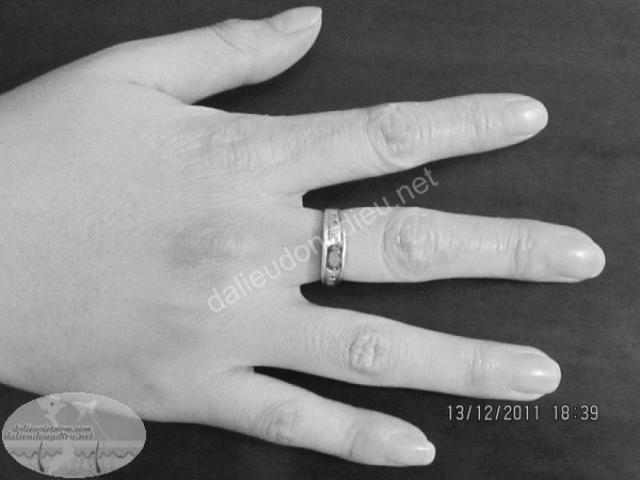not-gloved: (0, 6, 599, 465)
